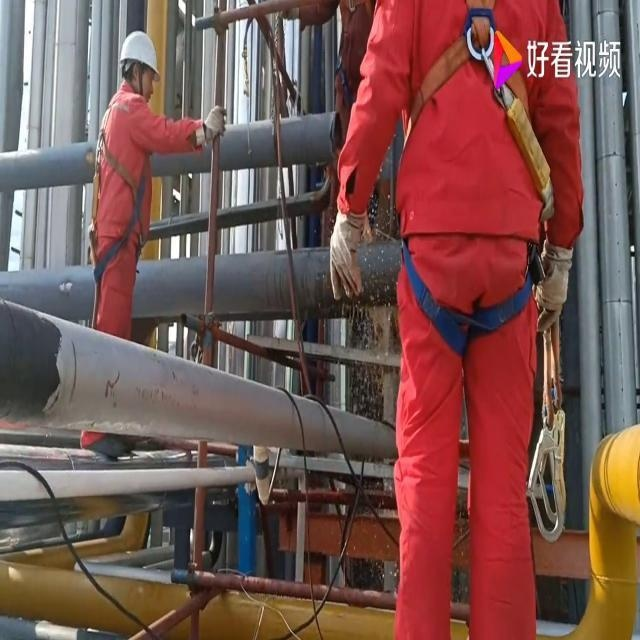Arnes_seguridad: (86, 81, 153, 282)
